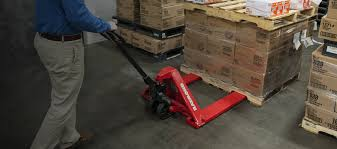Pallet Jack: (96, 21, 266, 129)
